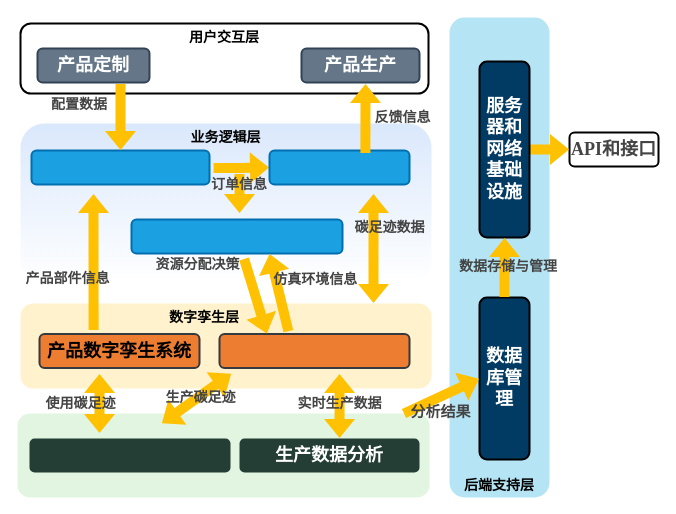
Some shapes in this 676 by 514 pixel diagram are drawn without their labels. Each missing label, with the box of its shape:
数据分析层: (17, 413, 429, 497)
生产资源分配系统: (130, 218, 343, 254)
碳足迹评价方法分析: (29, 438, 230, 472)
碳足迹评价系统: (268, 149, 410, 185)
订单管理系统: (30, 149, 210, 185)
车间数字孪生系统: (218, 332, 410, 368)
